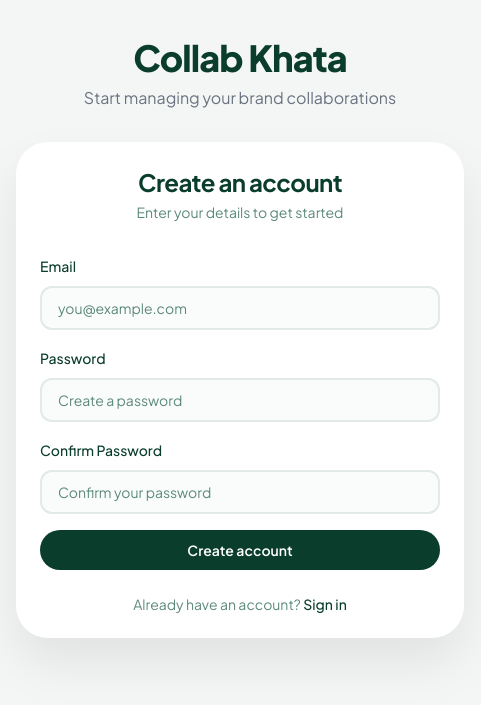
Test: RegisterPage › should validate password length
Type "test@example.com" into the field labelled "Email" at x=240, y=308, box [40, 286, 440, 330]
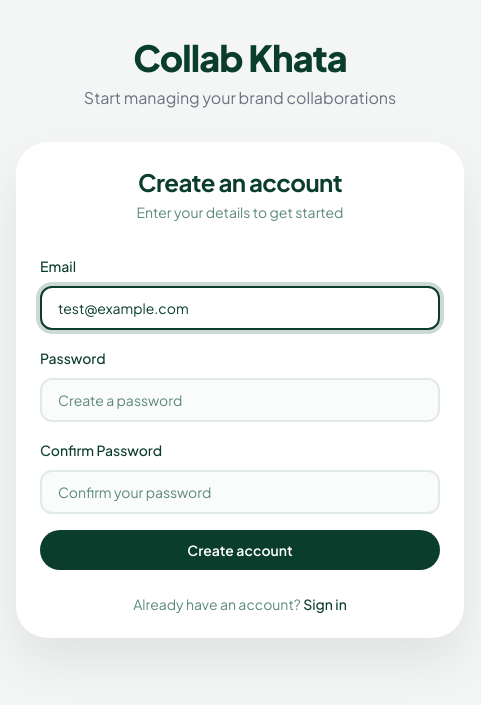
Type "12345" into the password field labelled "Password" at x=240, y=400, box [40, 378, 440, 422]
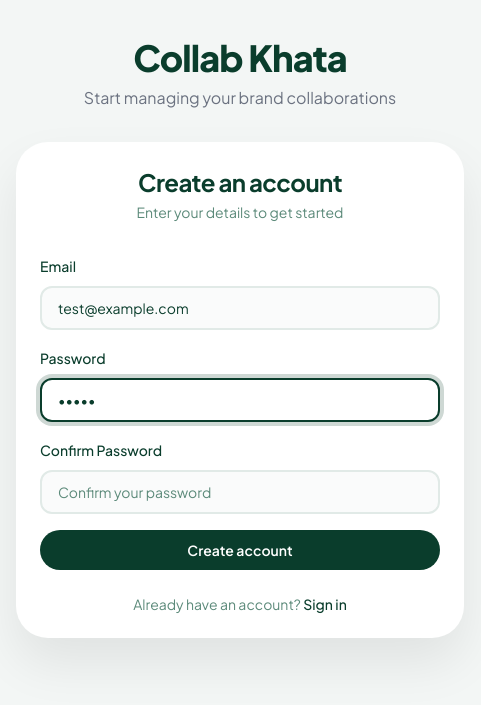
Type "12345" into the password field labelled "Confirm Password" at x=240, y=492, box [40, 470, 440, 514]
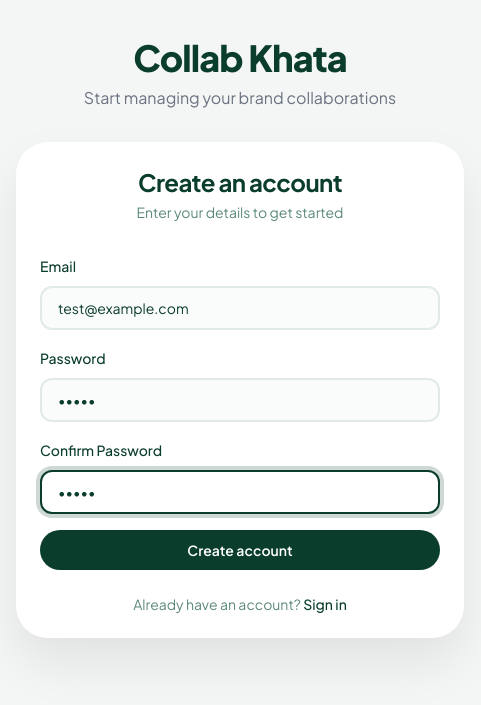
Click the button "Create account" at x=240, y=550, box [40, 530, 440, 570]
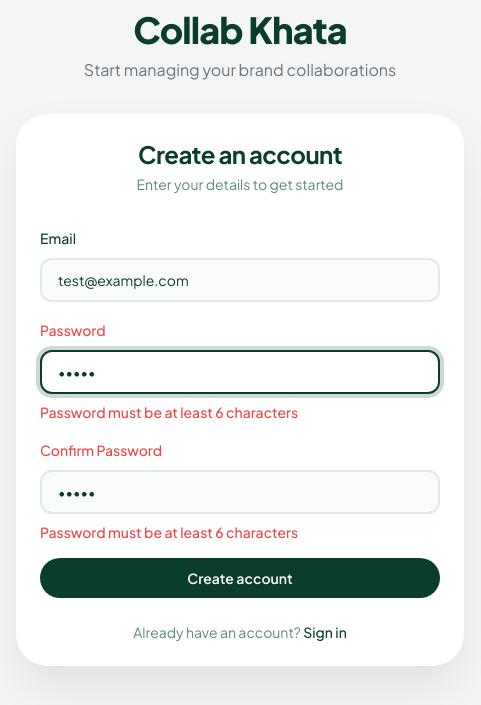
Expected: the 1st text "Password must be at least 6 characters" is shown, [40, 403, 298, 421]
